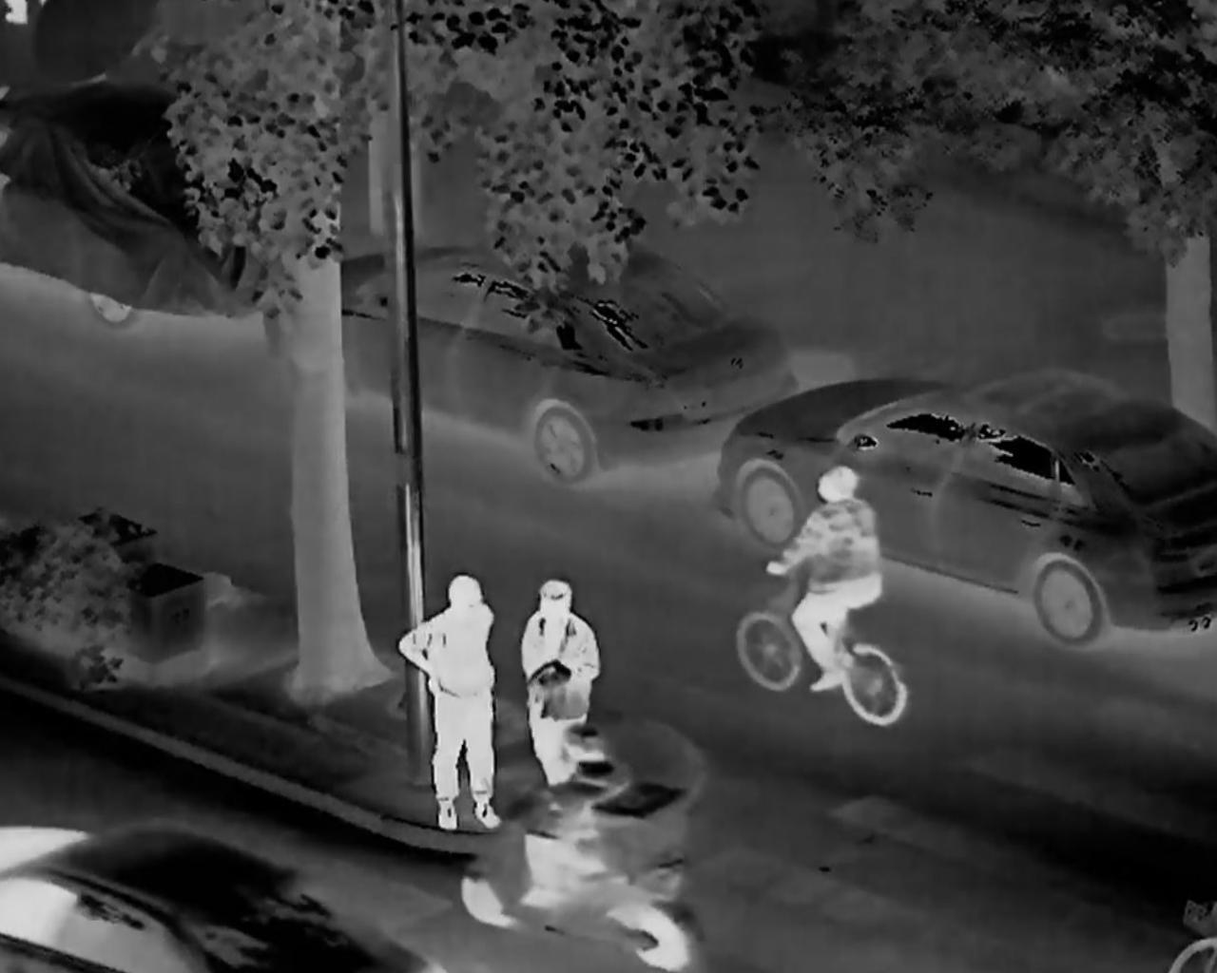person: (389, 558, 524, 838), (763, 461, 887, 699), (512, 705, 637, 921), (526, 577, 613, 781)
